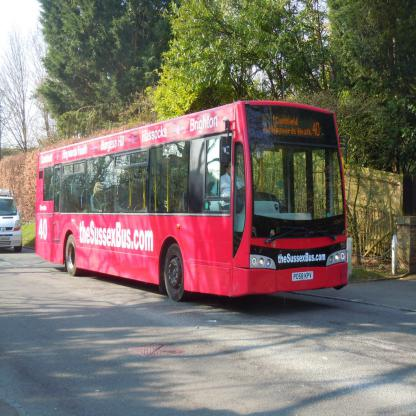Bus: (35, 100, 348, 301)
